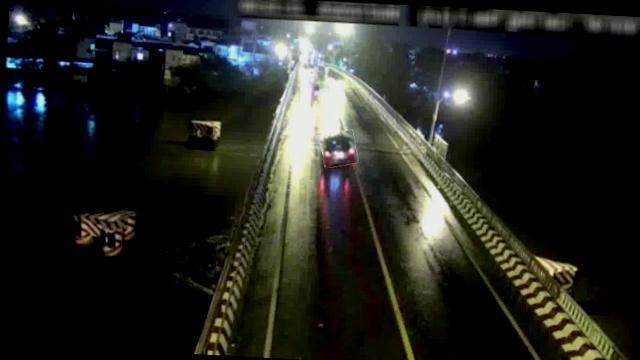Car: (318, 130, 357, 168)
